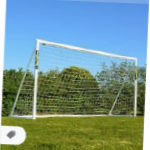goals: (8, 35, 141, 121)
